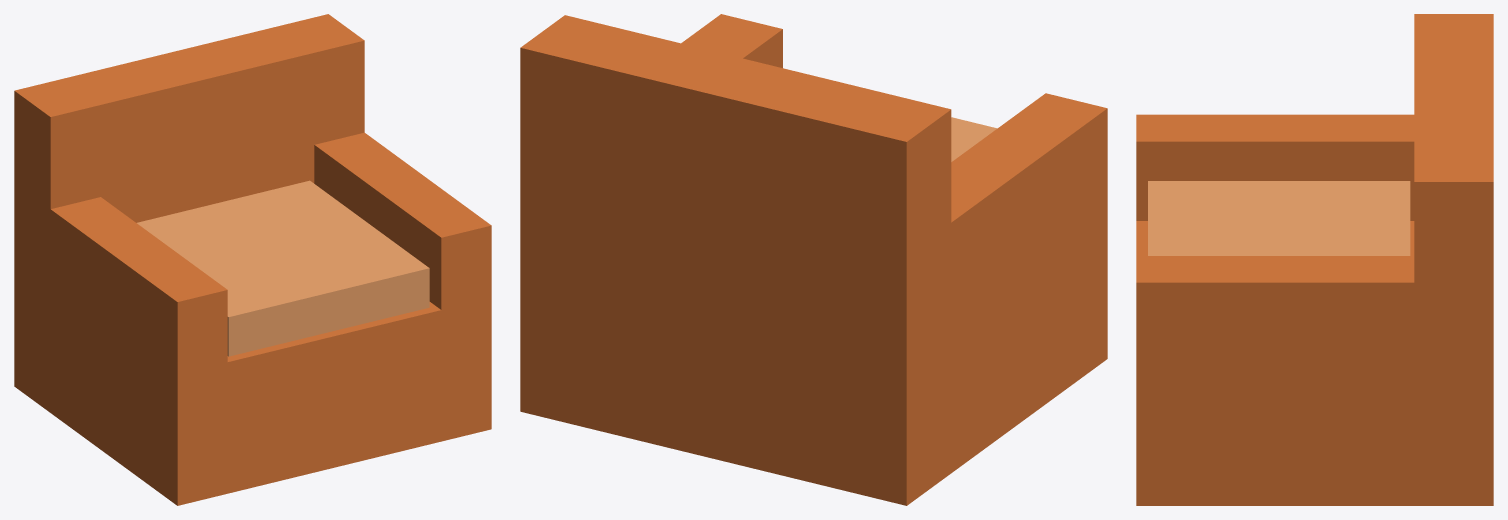
File: armchair.glb
3 renders of one model, left to right at view 1: azimuth 30°, elevation 25°; view 2: azimuth 150°, elevation 25°; view 3: azimuth 270°, elevation 25°, orthographic. The views are drawn at different scales.
Visible parts, largest first — view 1: Base, Back, Cushion, Arm_left, Arm_right; view 2: Back, Base, Arm_left, Arm_right, Cushion; view 3: Base, Arm_right, Back, Cushion, Arm_left.
Part boxes in pixels (box(x1,y1,x2,y2)): Base: box(14, 255, 491, 505); Back: box(14, 14, 364, 281); Cushion: box(137, 180, 429, 356); Arm_left: box(14, 183, 227, 374); Arm_right: box(314, 132, 491, 309); Back: box(520, 15, 951, 343); Base: box(520, 197, 1107, 505); Arm_left: box(845, 93, 1107, 343); Arm_right: box(520, 14, 782, 264); Cushion: box(951, 117, 997, 161); Base: box(1136, 221, 1493, 505); Arm_right: box(1136, 256, 1493, 361); Back: box(1414, 14, 1493, 361); Cushion: box(1148, 181, 1410, 255); Arm_left: box(1136, 114, 1414, 220).
Bounding box in the file's own units: 1 × 0.9 × 0.9.
